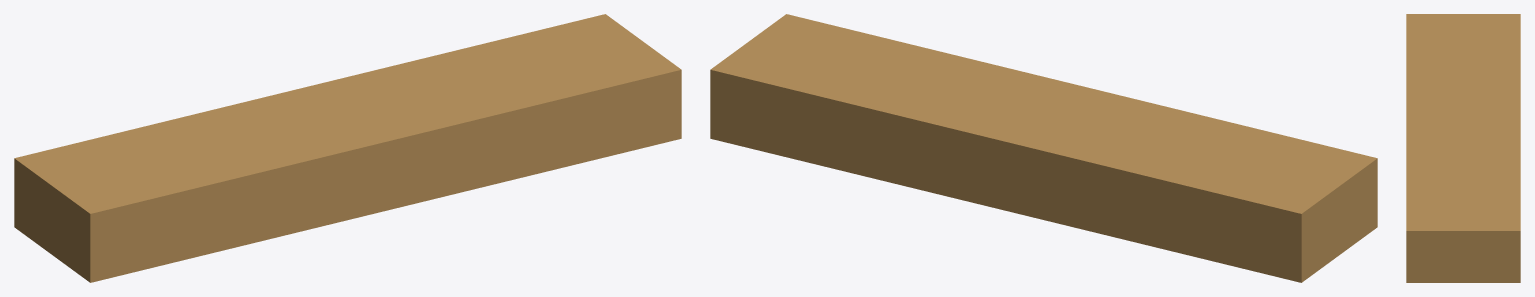
3 renders of one model, left to right at view 1: azimuth 30°, elevation 25°; view 2: azimuth 150°, elevation 25°; view 3: azimuth 270°, elevation 25°, orthographic. The views are drawn at different scales.
Parts seen in each view (by area): view 1: RUN-039-S01-NOG-00; view 2: RUN-039-S01-NOG-00; view 3: RUN-039-S01-NOG-00.
Part boxes in pixels (<box>): RUN-039-S01-NOG-00: <box>14,14,681,282</box>; RUN-039-S01-NOG-00: <box>710,14,1377,282</box>; RUN-039-S01-NOG-00: <box>1406,14,1520,282</box>.
Size of the model in its own units: 0.4035 by 0.045 by 0.09.
